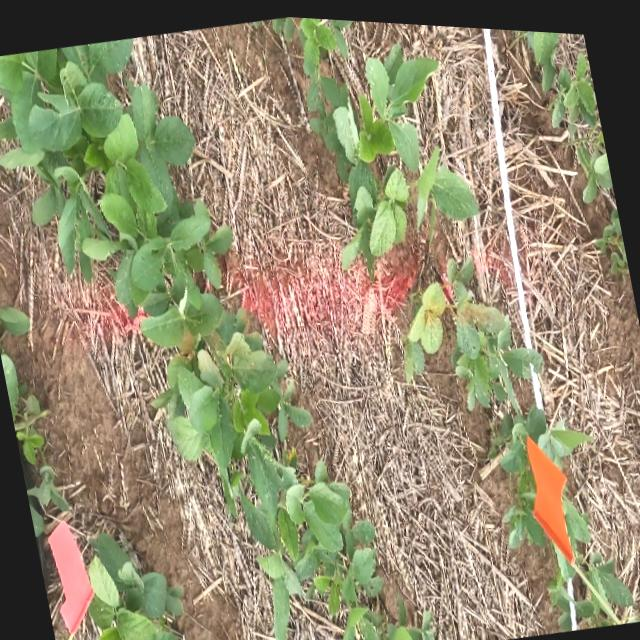soy_plant: (0, 37, 435, 640), (404, 255, 587, 536), (298, 14, 478, 265), (0, 306, 68, 535), (90, 536, 179, 640), (555, 54, 614, 188), (578, 548, 631, 620), (524, 24, 558, 77), (564, 489, 590, 540), (604, 203, 625, 244)
